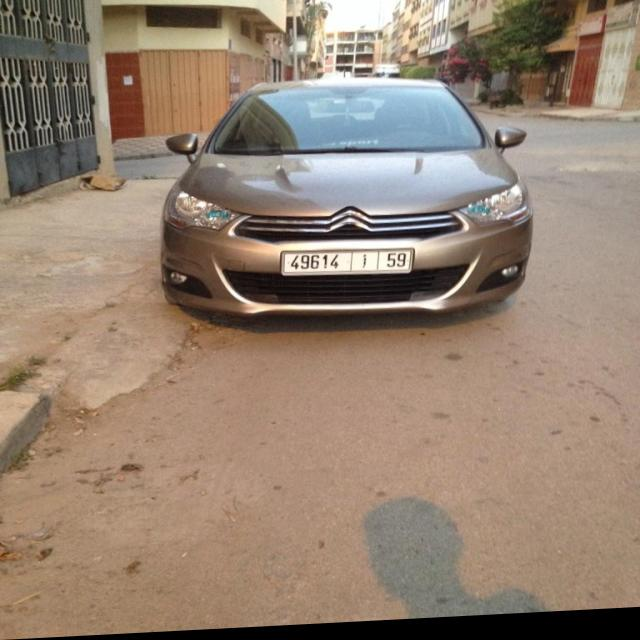License-Plate: (282, 253, 413, 278)
